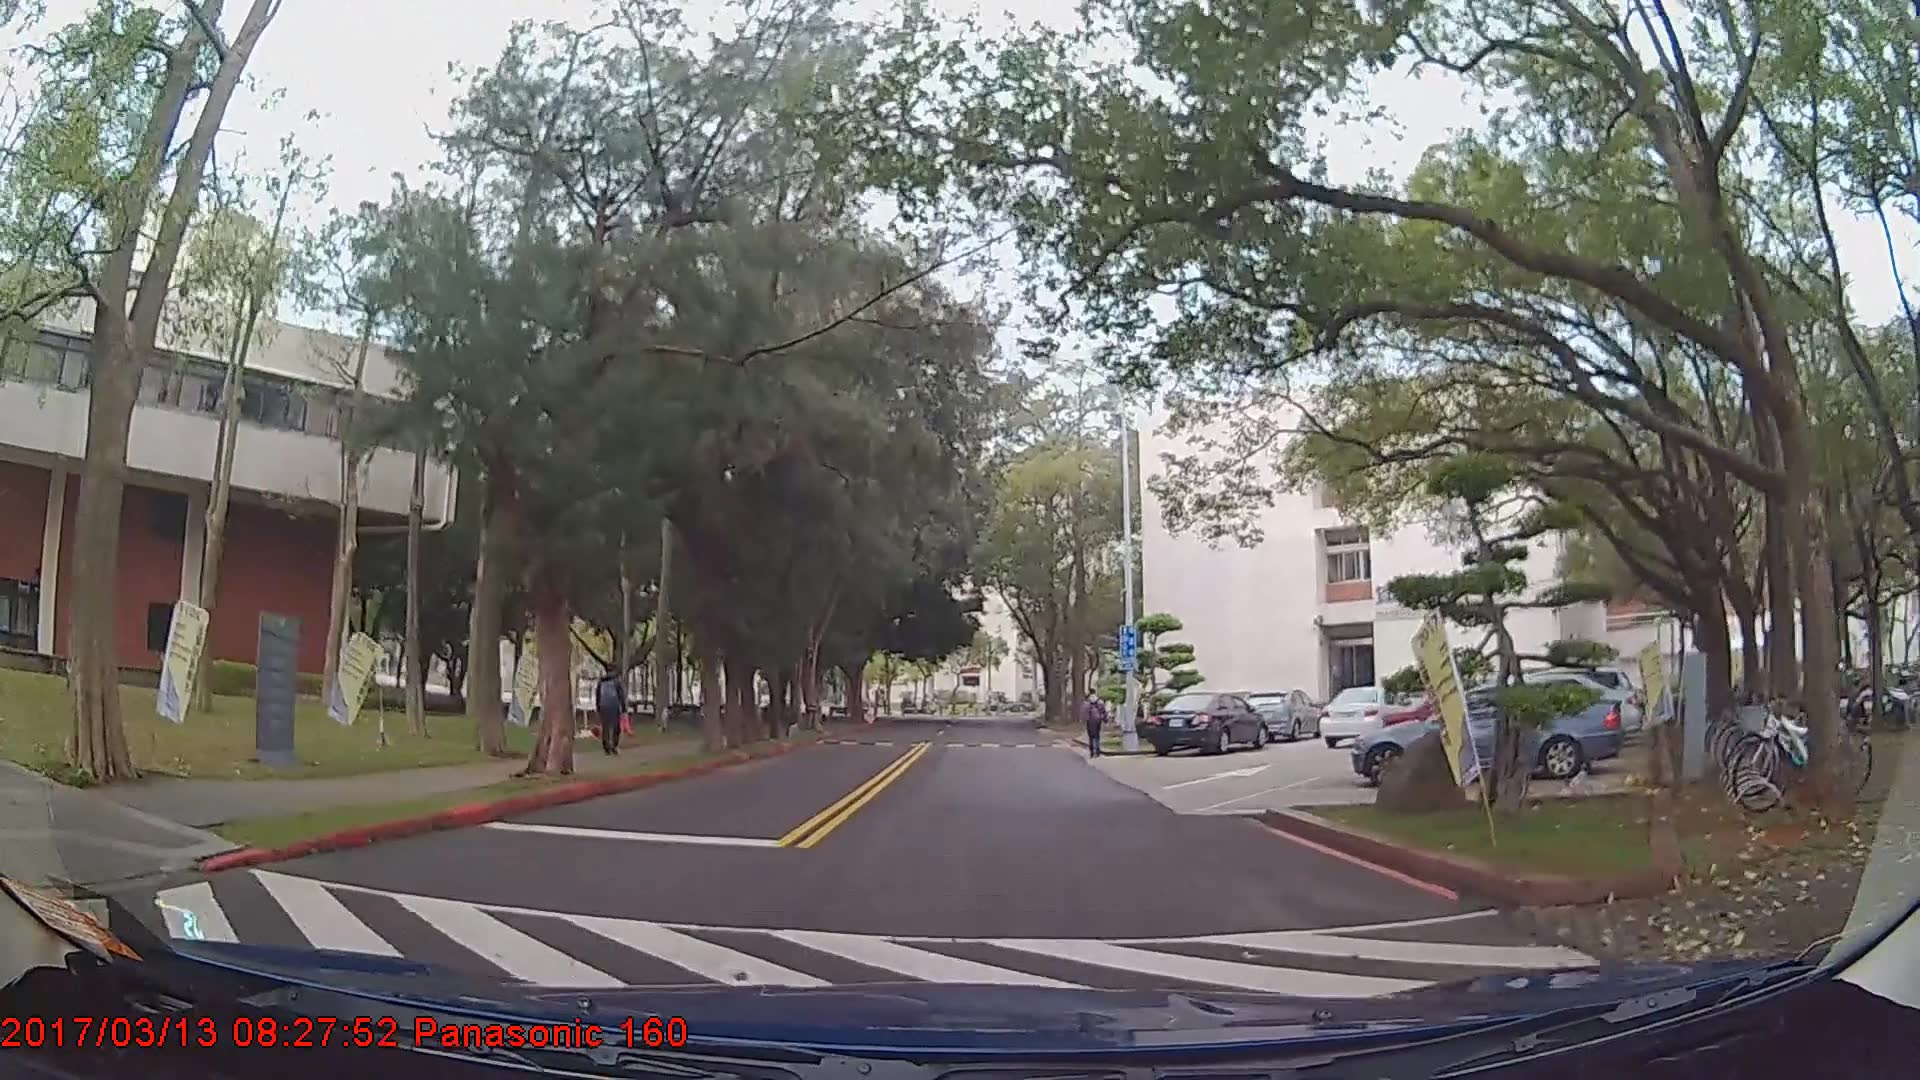pedestrian: (596, 666, 627, 758), (1083, 691, 1111, 763)
vehicle: (1350, 680, 1622, 789), (1144, 691, 1271, 757), (1321, 683, 1410, 747), (1244, 688, 1326, 742)
